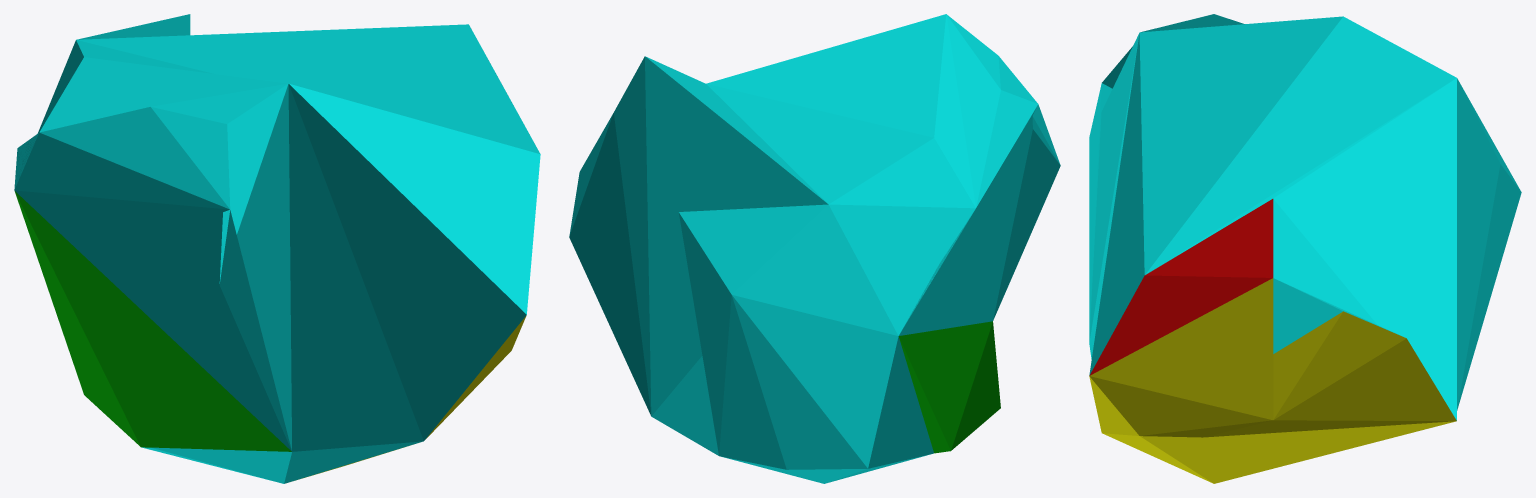
3 renders of one model, left to right at view 1: azimuth 30°, elevation 25°; view 2: azimuth 150°, elevation 25°; view 3: azimuth 270°, elevation 25°, orthographic. The views are drawn at different scales.
Size of the model in its own units: 4.74 by 4.51 by 4.33.
